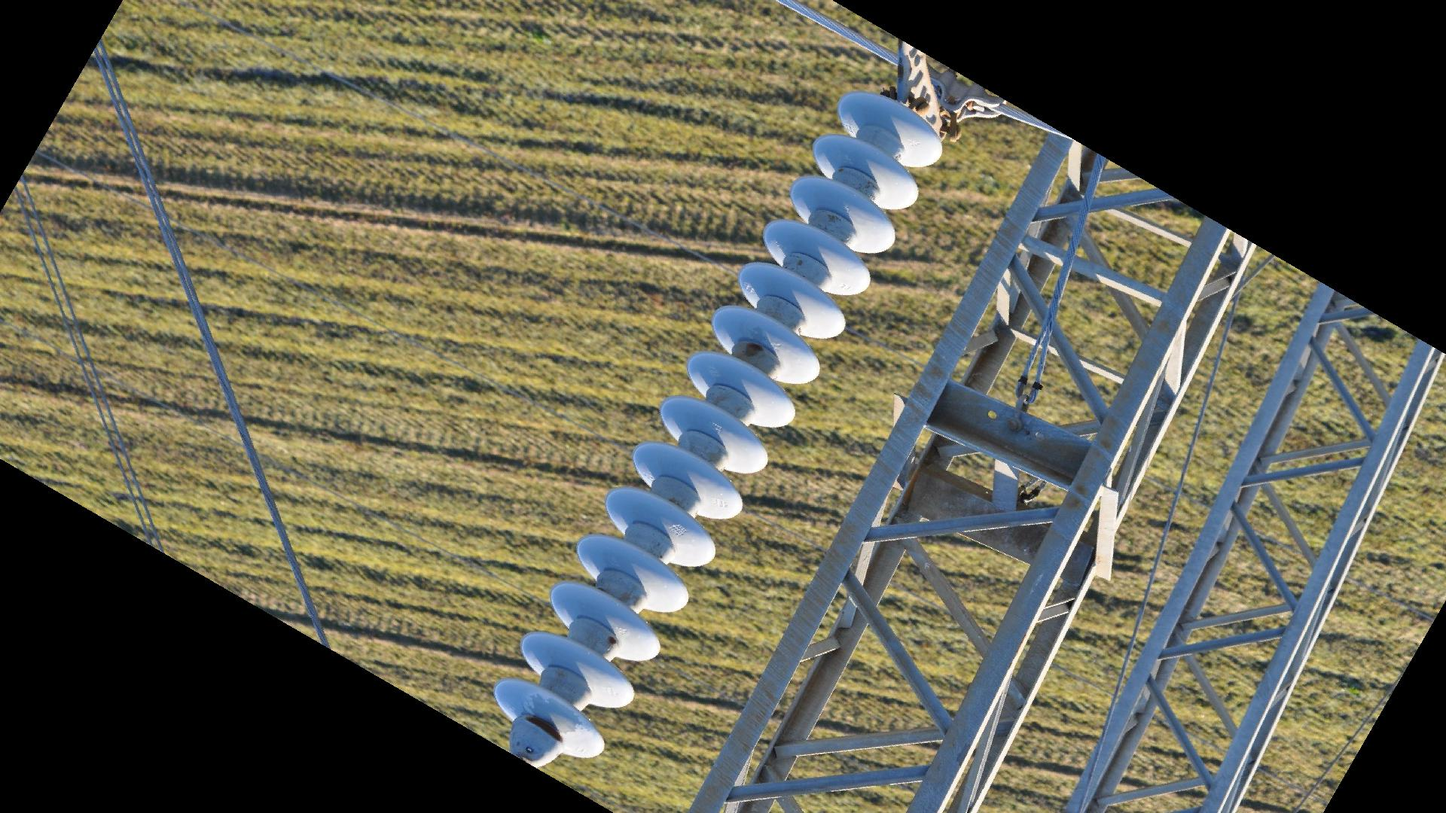insulator: (490, 85, 951, 763)
insulator_flashover: (525, 689, 583, 736)
